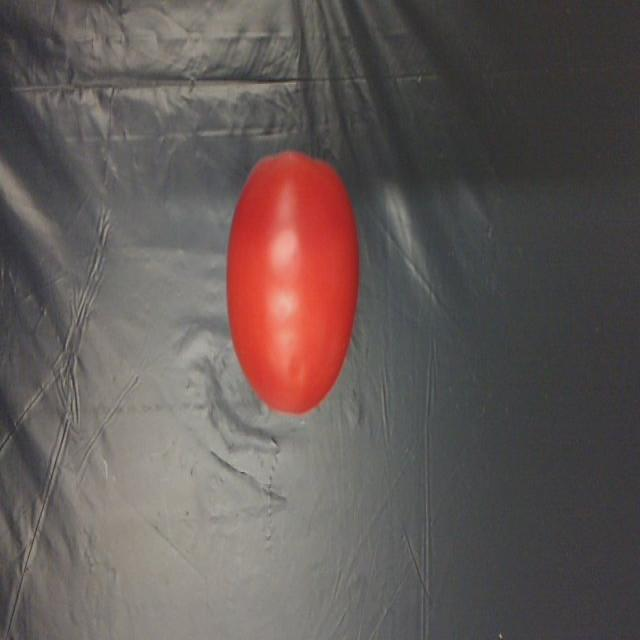kirmizi: (218, 149, 362, 434)
